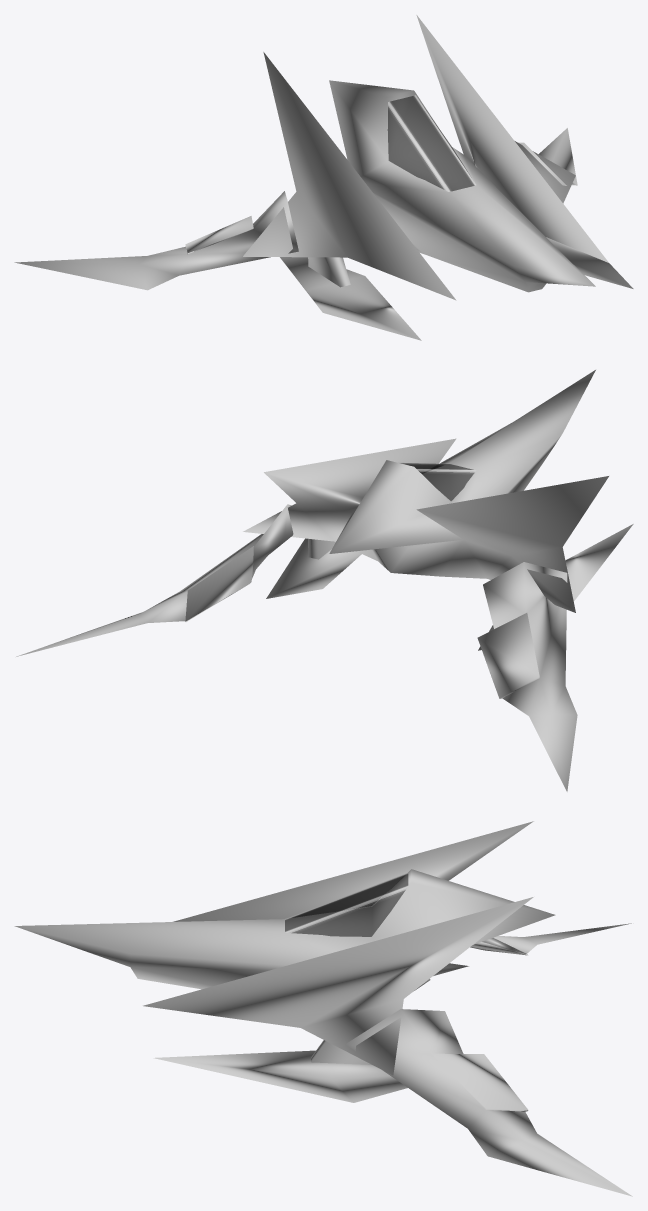
The model's file is arwingNew62.obj.
3 renders of one model, top to bottom at view 1: azimuth 30°, elevation 25°; view 2: azimuth 150°, elevation 25°; view 3: azimuth 270°, elevation 25°, orthographic.
Visible parts, largest first — view 1: Arwing.002; view 2: Arwing.002; view 3: Arwing.002.
Boxes of the visible parts, bbox=[...] form: Arwing.002: bbox=[14, 15, 633, 340]; Arwing.002: bbox=[16, 370, 633, 791]; Arwing.002: bbox=[14, 821, 632, 1196].
Size of the model in its own units: 6.27 by 2.15 by 6.
